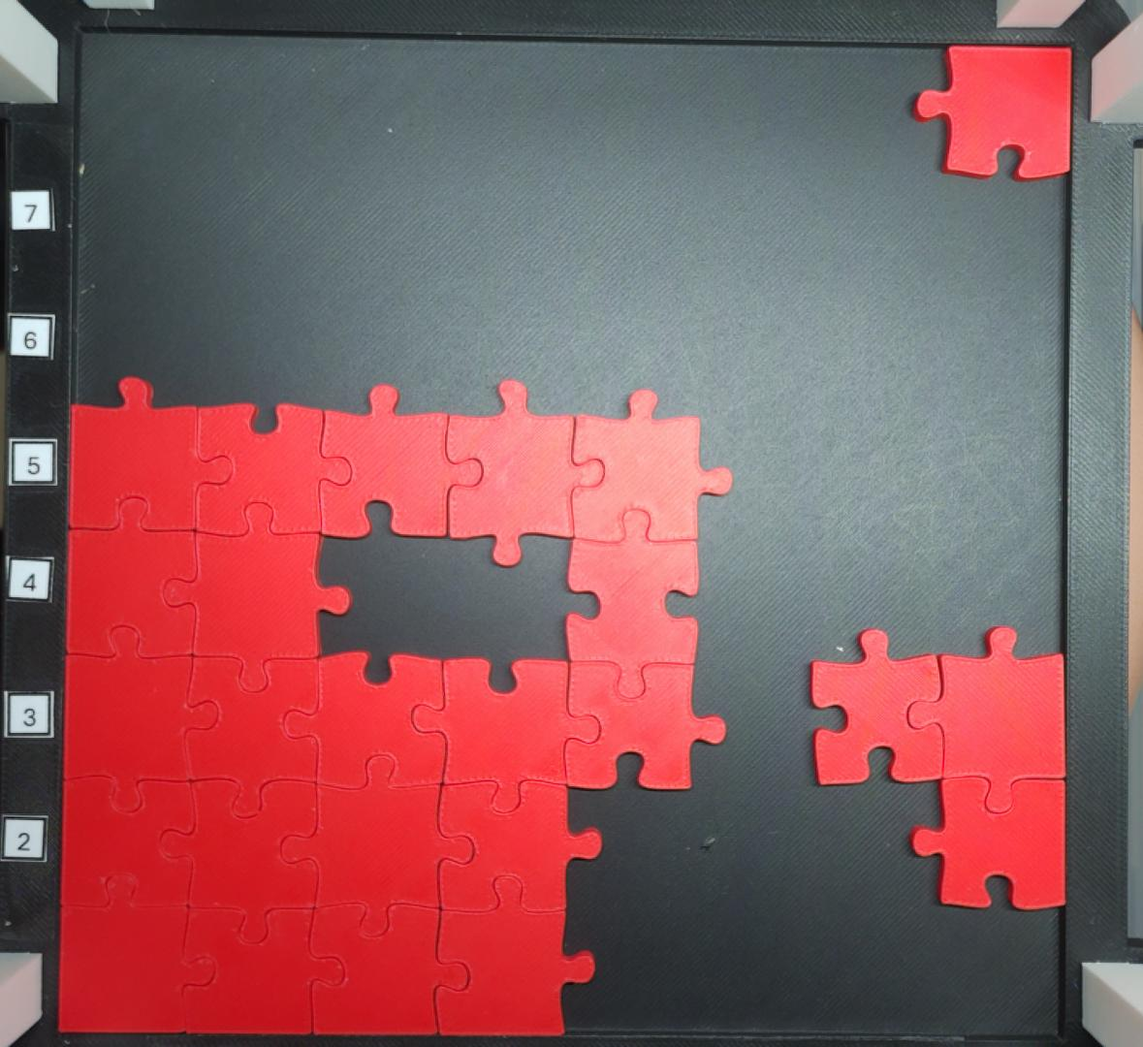p_1: (915, 44, 1072, 183)
p_3: (809, 627, 1067, 911)
p_m: (56, 375, 734, 1038)
